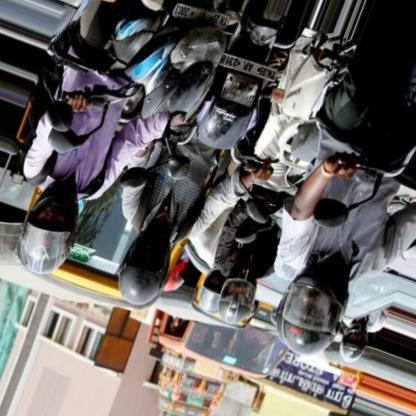with helmet: (275, 262, 352, 359), (18, 182, 79, 276), (117, 229, 175, 313)
